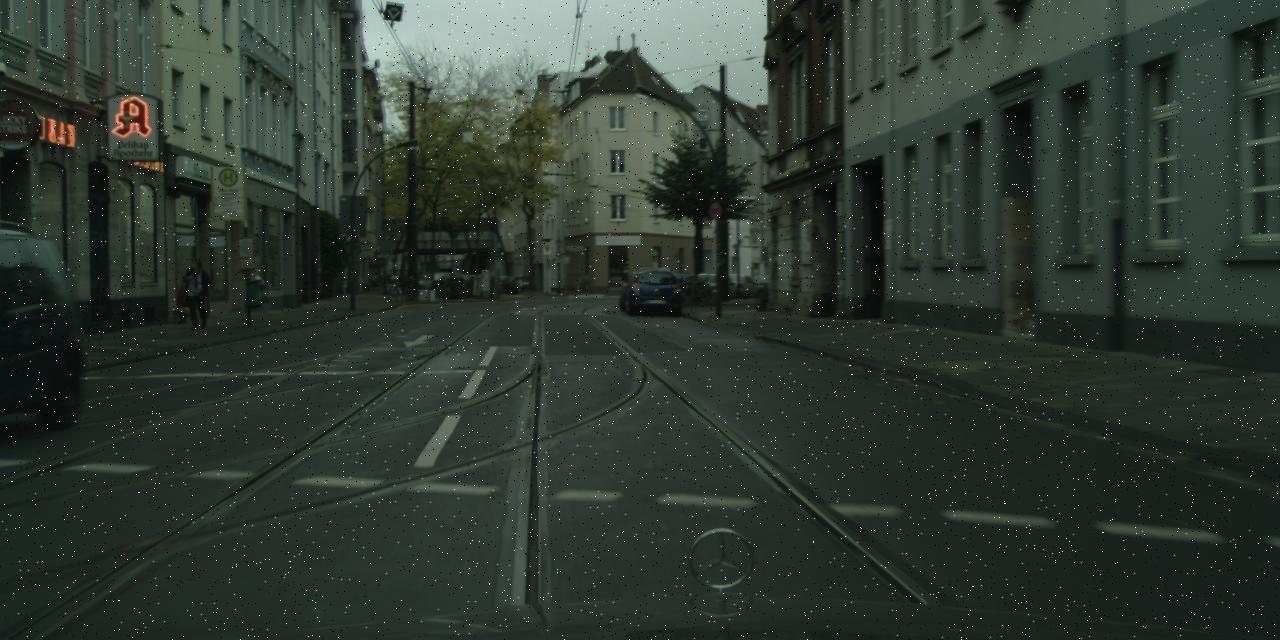ped: (182, 257, 210, 327)
